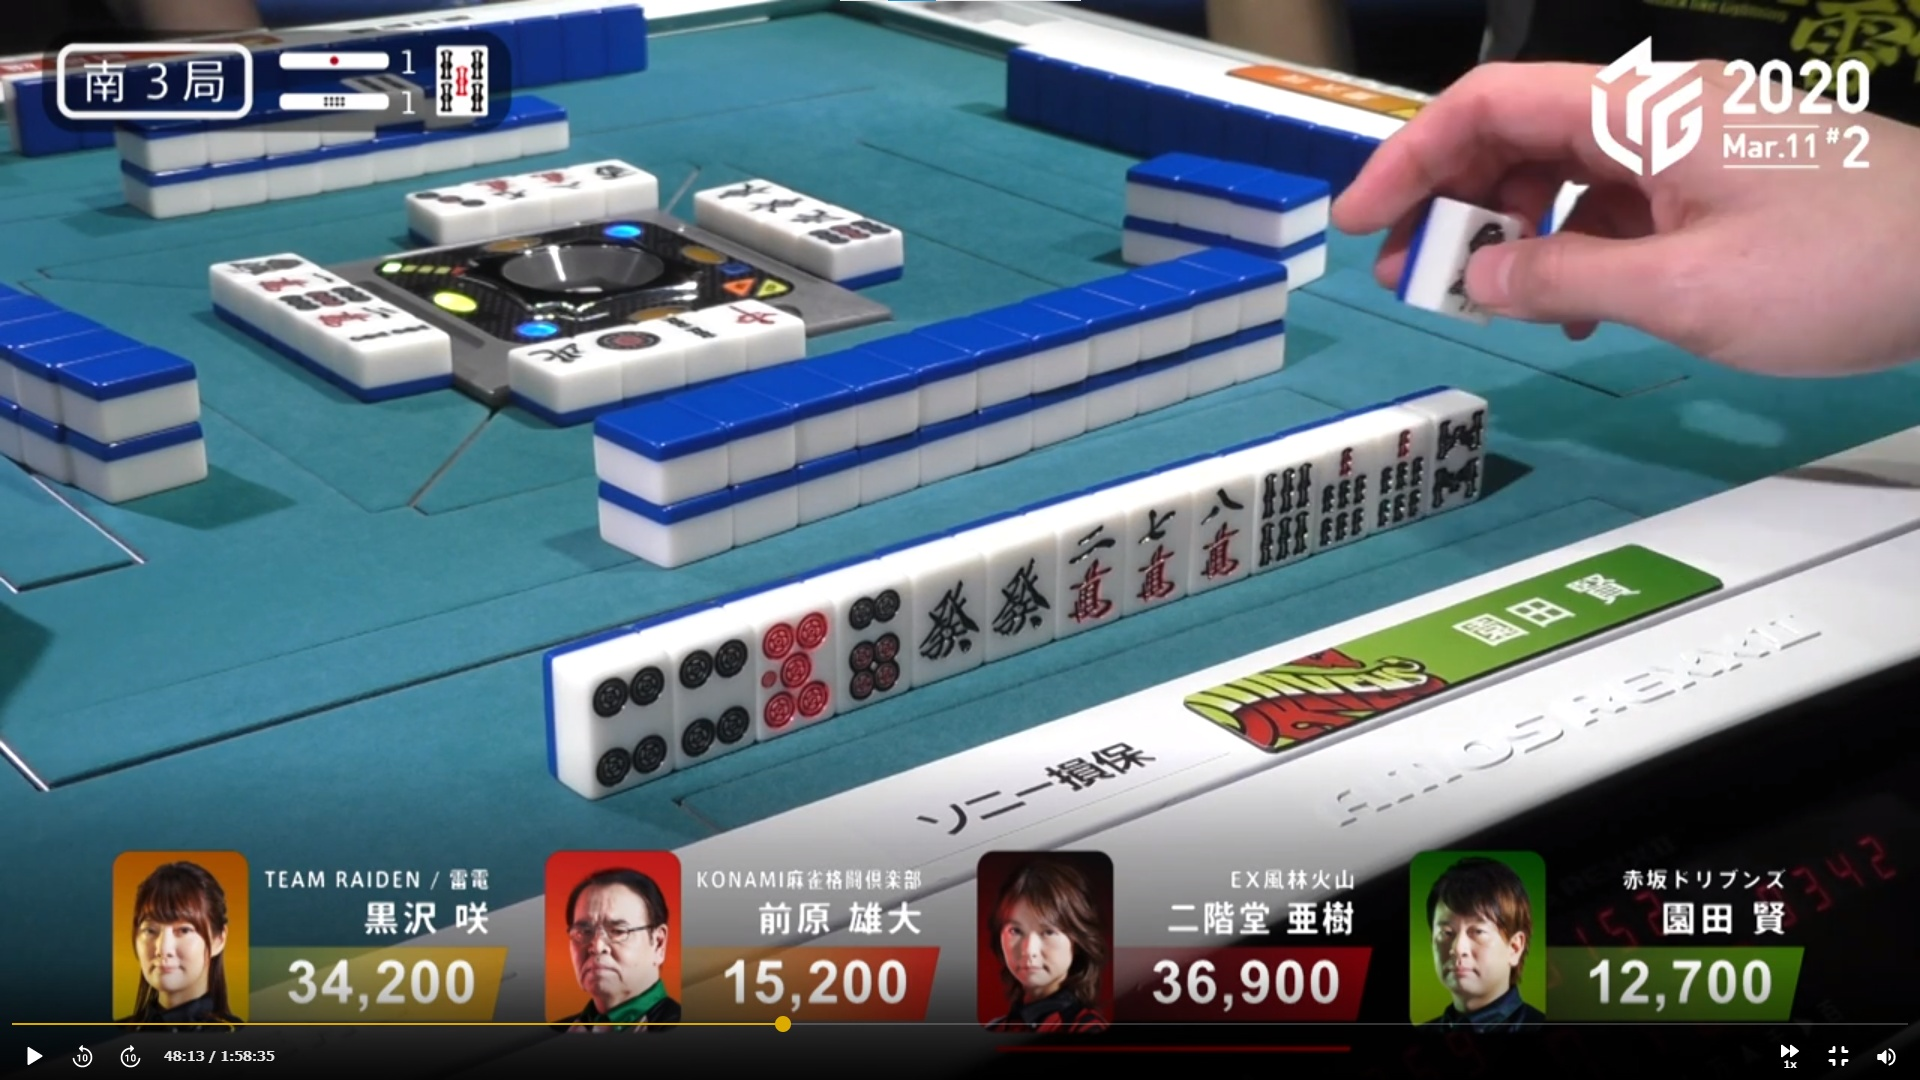2m: (1062, 518, 1121, 626)
4p: (585, 659, 669, 783), (674, 632, 752, 756)
5pr: (760, 609, 832, 728)
6p: (832, 582, 910, 708)
6s: (1247, 456, 1317, 576)
7m: (1124, 495, 1180, 607)
7s: (1369, 423, 1429, 534), (1317, 439, 1371, 550)
8m: (1184, 475, 1249, 587)
8s: (1433, 404, 1487, 512)
hand_nan_3: (50, 36, 264, 116)
hatsu: (914, 560, 986, 680), (988, 533, 1056, 651)
round_1: (262, 80, 433, 127)
team_drivens: (1176, 632, 1480, 754)
